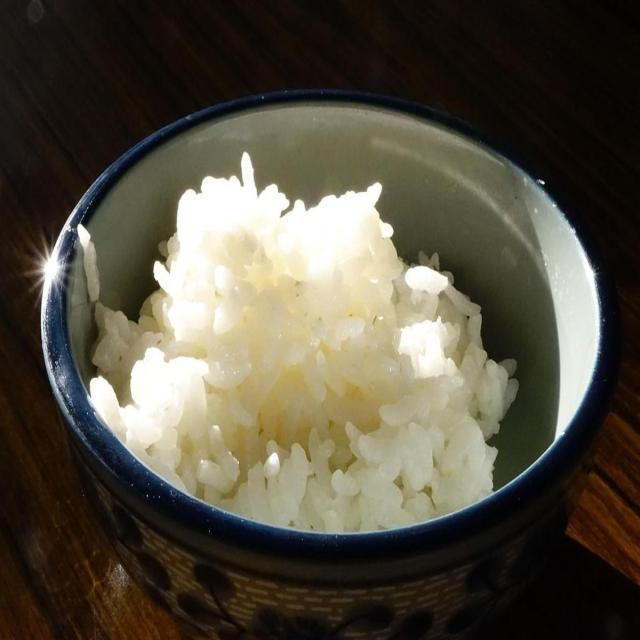arroz: (78, 101, 560, 532)
